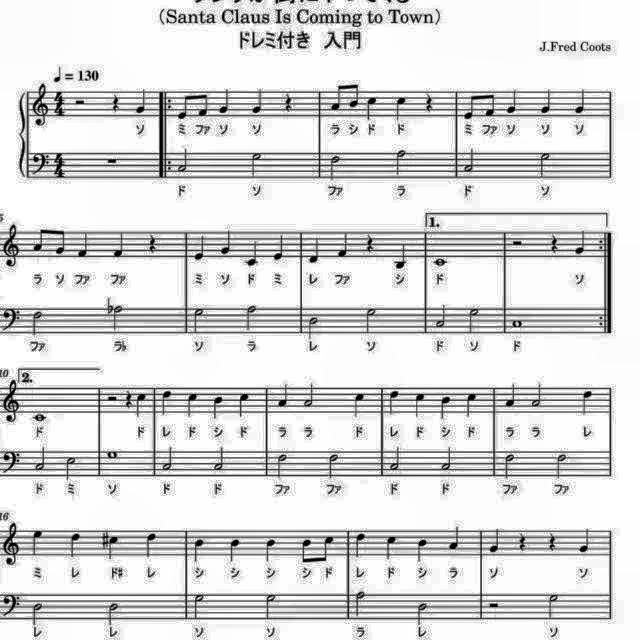Bass-clef: (0, 304, 24, 334), (0, 446, 24, 476), (0, 590, 24, 618), (30, 151, 52, 179)
Eighth-note: (319, 532, 337, 566), (460, 90, 478, 122), (30, 224, 48, 256), (328, 82, 344, 116), (174, 91, 192, 121), (346, 80, 362, 112), (54, 224, 70, 256), (296, 536, 312, 568), (482, 90, 498, 118), (196, 90, 212, 118)
Full-note: (30, 410, 50, 426), (509, 314, 526, 330), (431, 254, 449, 268), (104, 448, 120, 462)
Full-rest: (103, 155, 121, 169)
Half-note: (542, 590, 562, 622), (262, 590, 282, 622), (351, 588, 369, 620), (242, 304, 260, 336), (189, 590, 207, 622), (465, 303, 483, 335), (31, 442, 49, 473), (190, 304, 207, 336), (432, 301, 450, 331), (500, 450, 518, 480), (528, 379, 546, 409), (460, 147, 478, 177), (325, 152, 343, 182), (535, 150, 553, 180), (106, 600, 125, 628), (174, 147, 192, 176), (110, 302, 126, 334), (392, 147, 408, 179), (362, 302, 378, 334), (324, 449, 341, 479), (29, 307, 46, 337), (248, 150, 264, 180), (274, 450, 290, 480), (302, 379, 318, 409), (554, 448, 570, 478), (439, 444, 456, 472), (415, 601, 433, 627), (388, 444, 404, 472), (162, 444, 178, 472), (62, 453, 78, 481), (306, 312, 322, 340), (211, 444, 227, 472), (29, 600, 46, 626)
Half-rest: (104, 392, 120, 406), (510, 237, 526, 250), (73, 95, 87, 109), (486, 598, 502, 610)
Quarter-note: (141, 528, 161, 560), (382, 532, 402, 564), (262, 534, 282, 564), (188, 535, 208, 565), (66, 528, 84, 560), (243, 238, 261, 270), (351, 528, 369, 560), (577, 524, 595, 556), (224, 534, 243, 564), (351, 391, 369, 422), (29, 526, 46, 558), (579, 389, 597, 419), (446, 522, 464, 552), (183, 389, 201, 419), (462, 391, 480, 421), (391, 241, 409, 271), (413, 534, 431, 564), (109, 231, 127, 261), (160, 387, 177, 418), (572, 86, 588, 118), (217, 226, 233, 258), (336, 228, 352, 260), (307, 234, 323, 266), (106, 532, 122, 564), (235, 391, 252, 421), (438, 394, 456, 422), (250, 85, 266, 116), (538, 85, 554, 116), (386, 388, 402, 418), (412, 389, 428, 419), (572, 227, 588, 257), (190, 232, 206, 262), (487, 524, 503, 554), (74, 231, 90, 261), (506, 87, 522, 117), (216, 86, 232, 116), (272, 233, 288, 263), (210, 392, 227, 420), (392, 92, 408, 121), (276, 379, 292, 408), (504, 379, 520, 408), (133, 389, 149, 418), (134, 88, 150, 116), (363, 94, 379, 122)
Quarter-rest: (545, 230, 561, 258), (545, 527, 561, 553), (144, 230, 160, 256), (515, 527, 531, 553), (280, 90, 296, 114), (421, 90, 437, 114), (362, 230, 376, 254), (108, 90, 122, 114), (124, 388, 136, 412)
Treble-clef: (0, 518, 22, 568), (31, 82, 53, 130), (0, 220, 22, 268), (0, 376, 22, 424)
